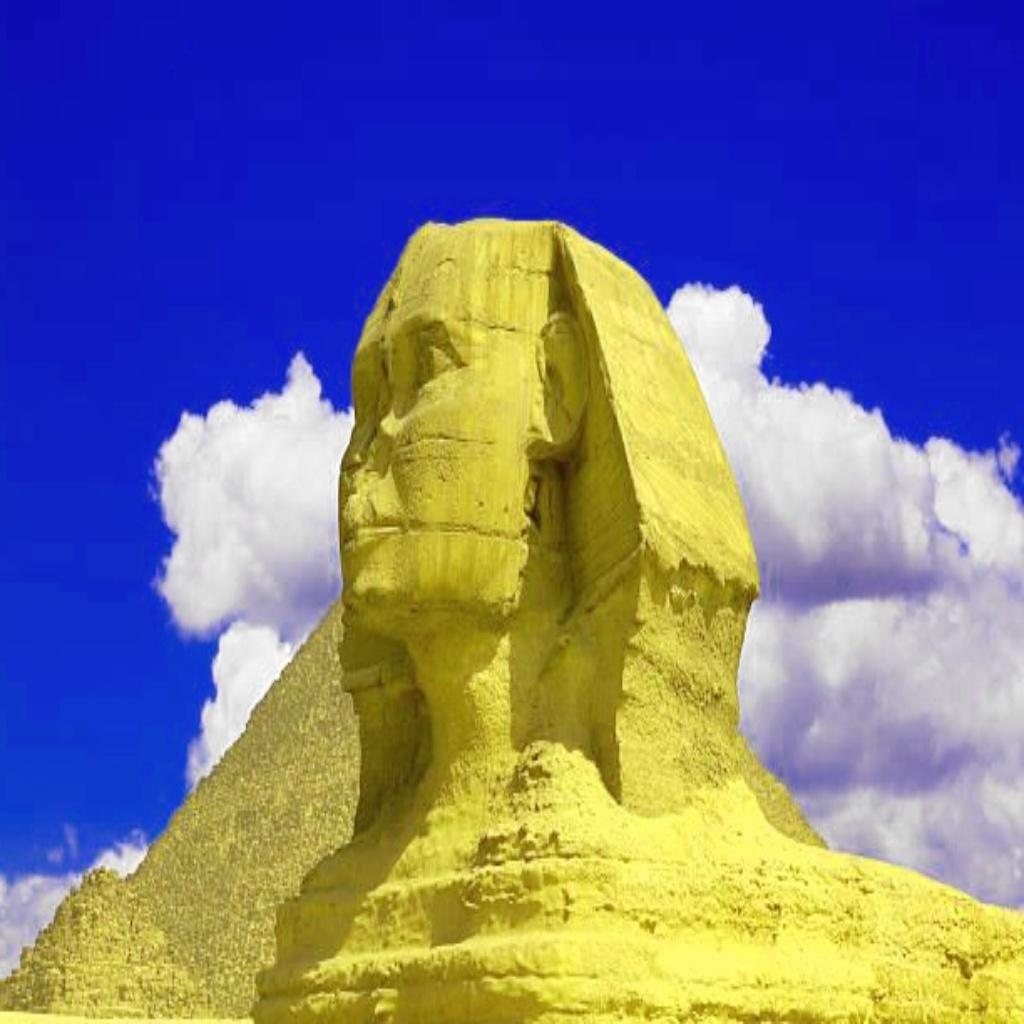Sphinx: (4, 213, 1022, 1019)
